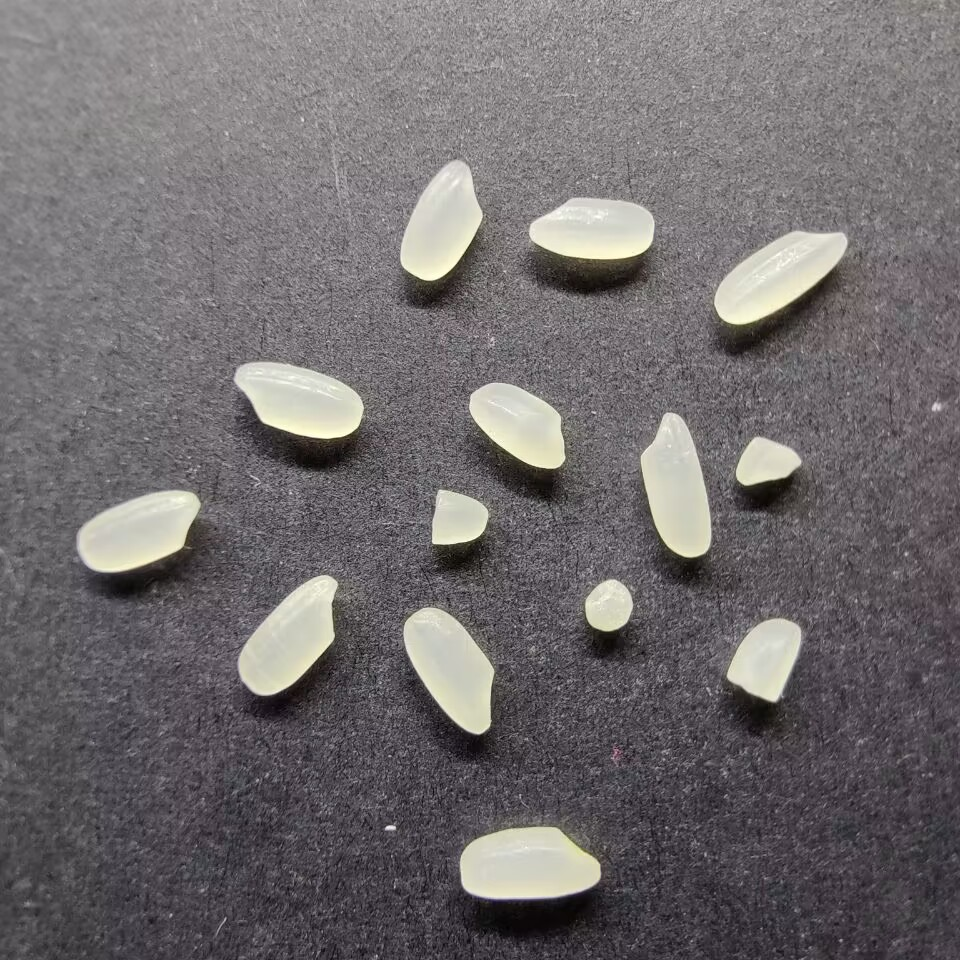broken: (725, 616, 802, 705), (733, 434, 803, 488), (429, 486, 490, 547), (585, 577, 633, 633)
rice: (712, 228, 848, 326), (236, 573, 340, 697), (400, 605, 496, 735), (396, 157, 486, 283), (456, 825, 603, 900), (639, 413, 714, 558), (75, 488, 201, 574), (233, 360, 363, 439), (467, 380, 567, 471), (527, 198, 656, 259)
